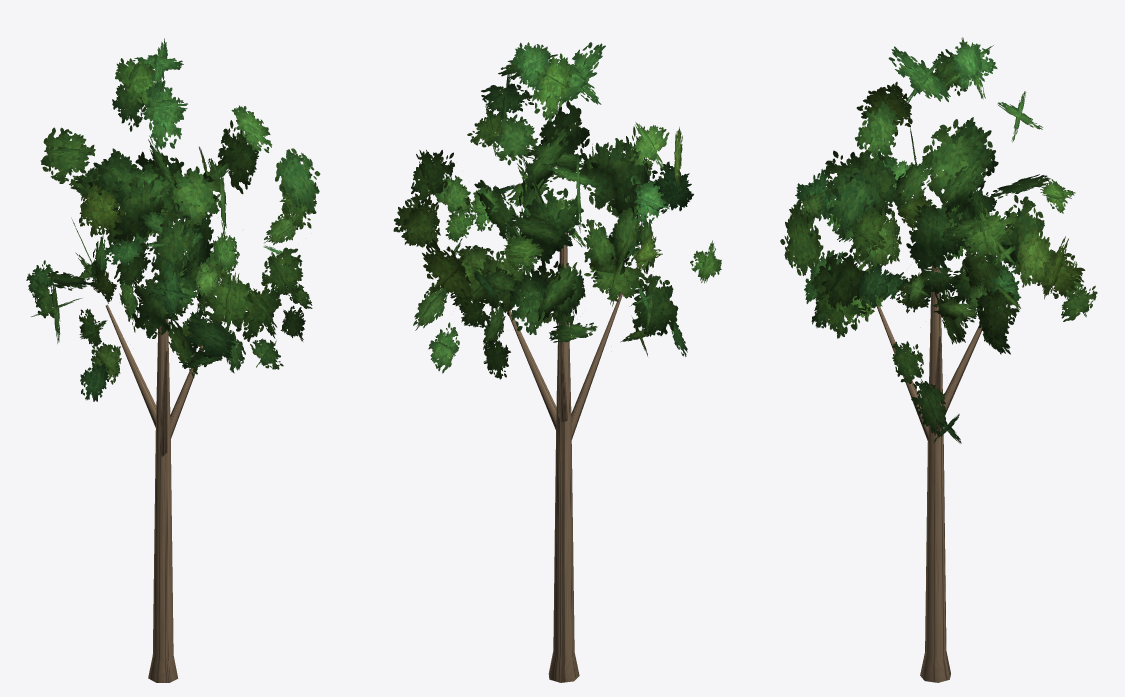
3 views of the same model, side by side, from view 1: azimuth 30°, elevation 25°; view 2: azimuth 150°, elevation 25°; view 3: azimuth 270°, elevation 25° (orthographic). The views are drawn at different scales.
Visible parts, largest first — view 1: tree_732; view 2: tree_732; view 3: tree_732.
Boxes of the visible parts, bbox=[...] form: tree_732: bbox=[26, 38, 320, 682]; tree_732: bbox=[393, 42, 721, 682]; tree_732: bbox=[780, 37, 1097, 682].
Bounding box in the file's own units: 5.45 × 11.4 × 5.29.
1 material, 1 textured.
